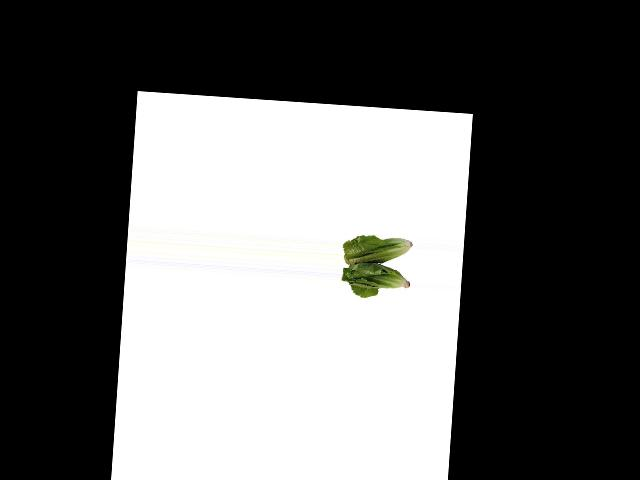lettuce: (340, 230, 414, 294)
